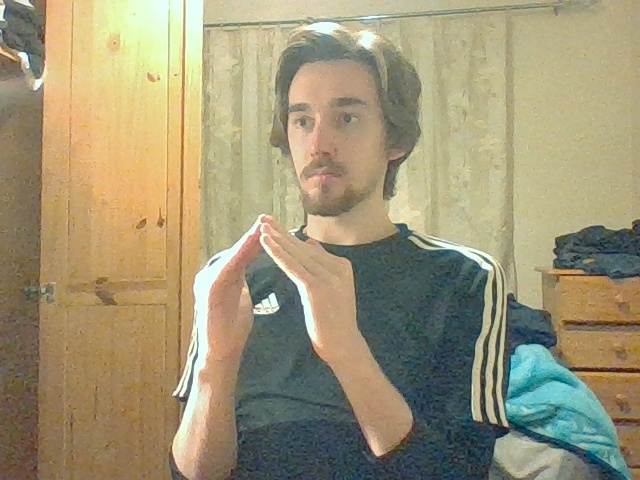home: (192, 212, 354, 303)
